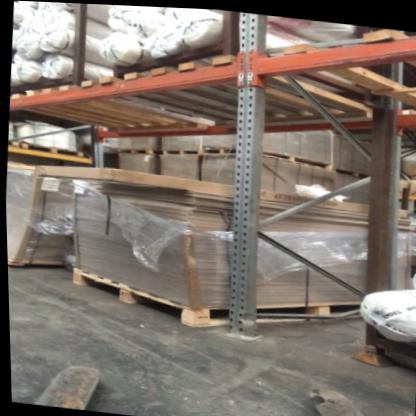vertical_damage: (219, 307, 271, 345)
